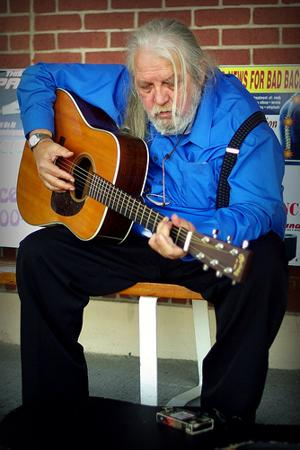person: (15, 18, 288, 444)
